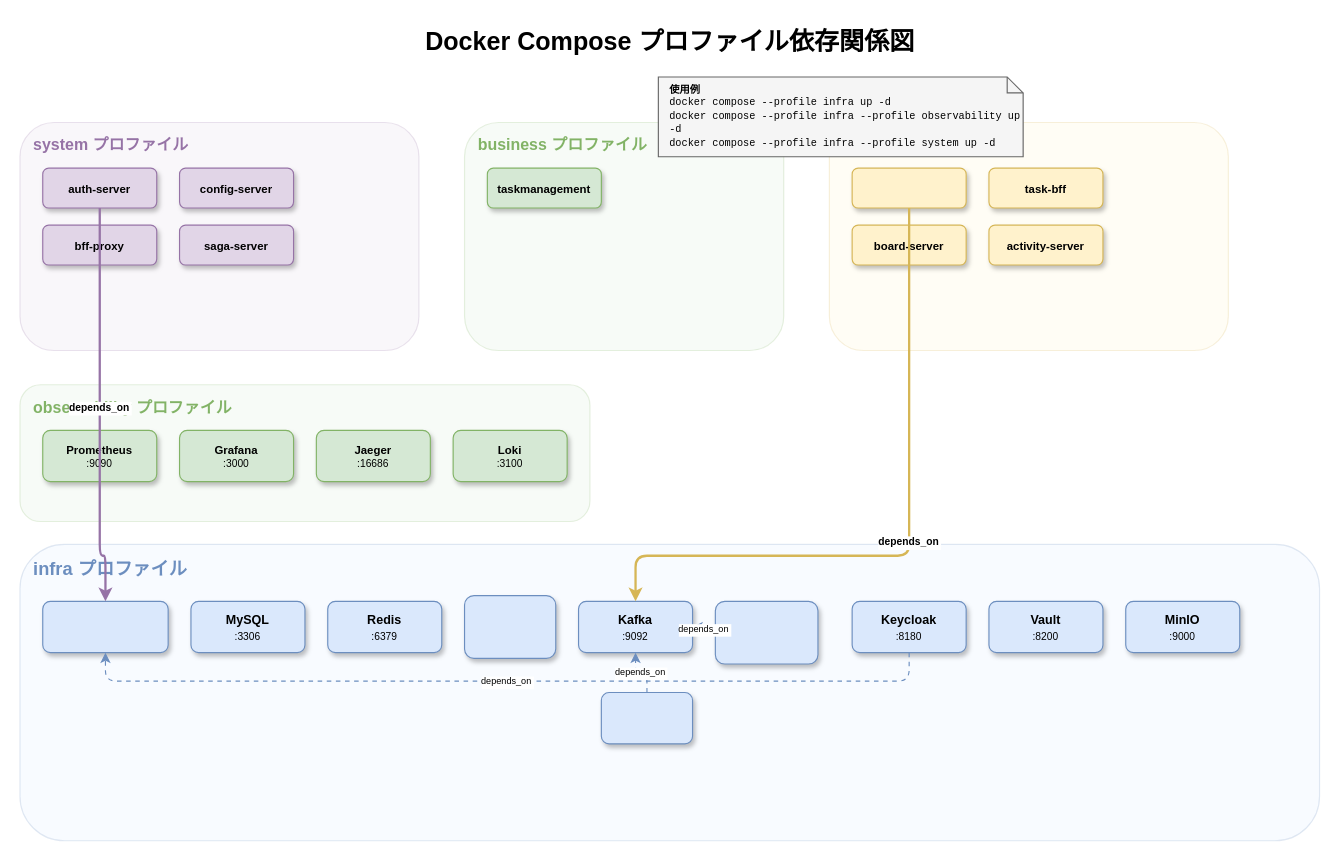
Image size: 1340x861. Some labels were removed from this diagram. Each missing label, with the centre of its shape:
"Kafka UI :8090" goes at pixel 647 719.
"PostgreSQL :5432" goes at pixel 106 628.
"Redis (Session) :6380" goes at pixel 511 628.
"Schema Registry :8081" goes at pixel 767 634.
"task-server" goes at pixel 909 189.
